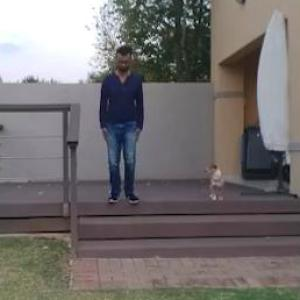follow: (97, 47, 137, 210)
